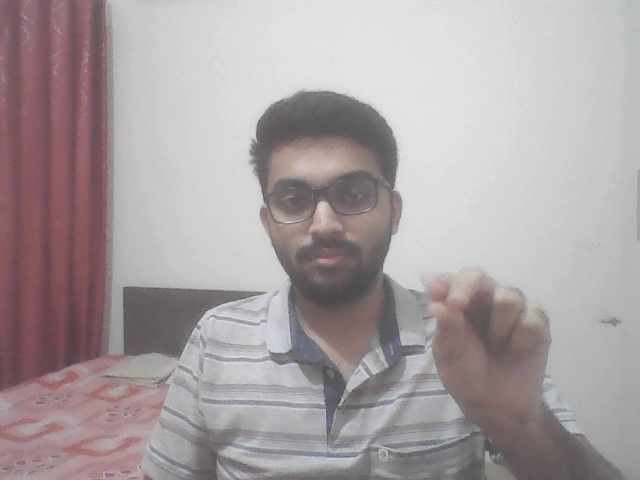no: (410, 242, 578, 428)
